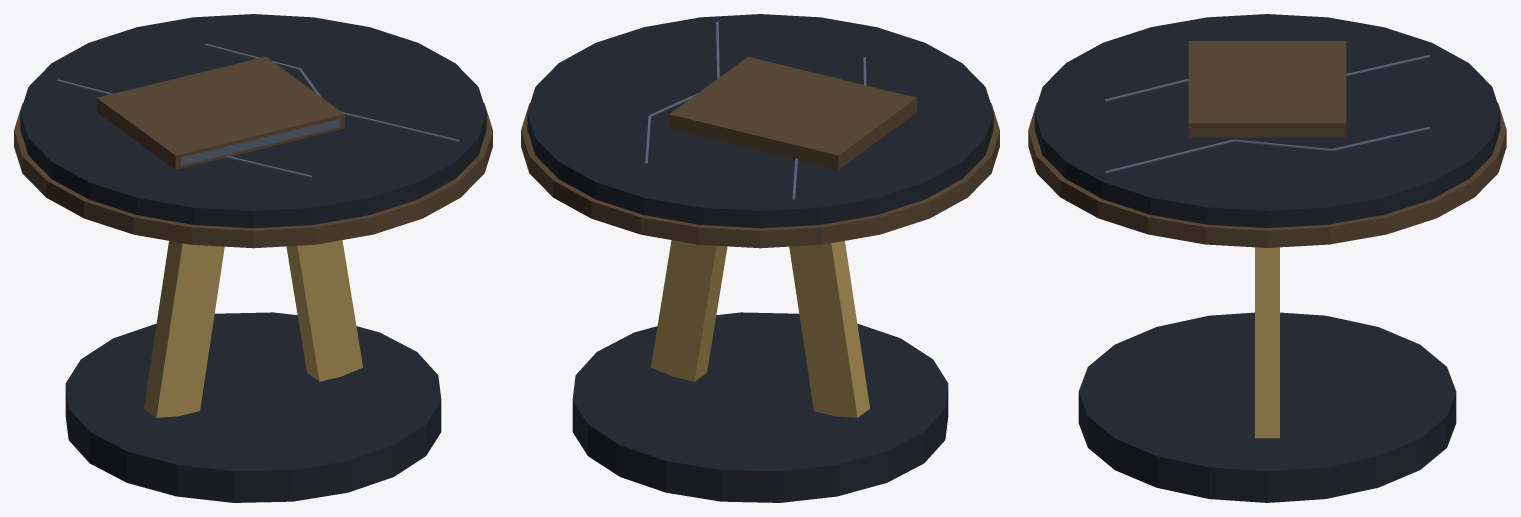
Rendered from res_side_table.glb.
3 views of the same model, side by side, from view 1: azimuth 30°, elevation 25°; view 2: azimuth 150°, elevation 25°; view 3: azimuth 270°, elevation 25° (orthographic).
Visible parts, largest first — view 1: stone_base, book_binding, offset_table_support, page_edges, fine_stone_vein; view 2: stone_base, book_binding, offset_table_support, fine_stone_vein; view 3: stone_base, book_binding, offset_table_support, fine_stone_vein.
Boxes of the visible parts, bbox=[...] form: stone_base: bbox=[20, 14, 486, 502]; book_binding: bbox=[14, 56, 492, 248]; offset_table_support: bbox=[144, 240, 362, 417]; page_edges: bbox=[181, 119, 339, 165]; fine_stone_vein: bbox=[57, 43, 459, 177]; stone_base: bbox=[527, 14, 993, 502]; book_binding: bbox=[521, 56, 999, 248]; offset_table_support: bbox=[651, 240, 869, 417]; fine_stone_vein: bbox=[645, 21, 866, 199]; stone_base: bbox=[1034, 14, 1500, 502]; book_binding: bbox=[1028, 41, 1506, 247]; offset_table_support: bbox=[1255, 247, 1279, 438]; fine_stone_vein: bbox=[1104, 55, 1430, 173].
Size of the model in its own units: 0.76 by 0.57 by 0.76.
